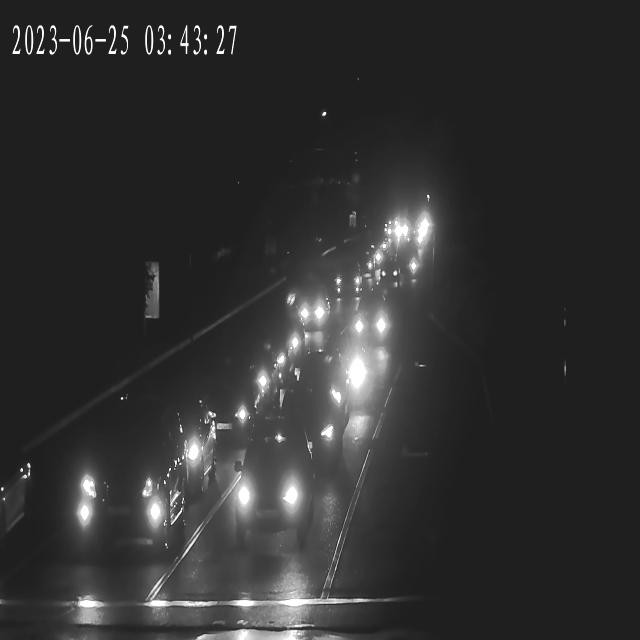Car: (64, 422, 178, 532), (232, 450, 310, 539), (274, 385, 347, 479), (180, 379, 259, 441), (0, 431, 38, 546), (218, 337, 282, 405), (321, 339, 386, 405), (262, 313, 302, 373), (350, 304, 394, 341), (293, 290, 334, 328), (335, 264, 367, 296), (397, 245, 419, 282), (358, 236, 386, 259), (351, 255, 372, 283), (404, 225, 430, 246), (386, 224, 402, 247)
